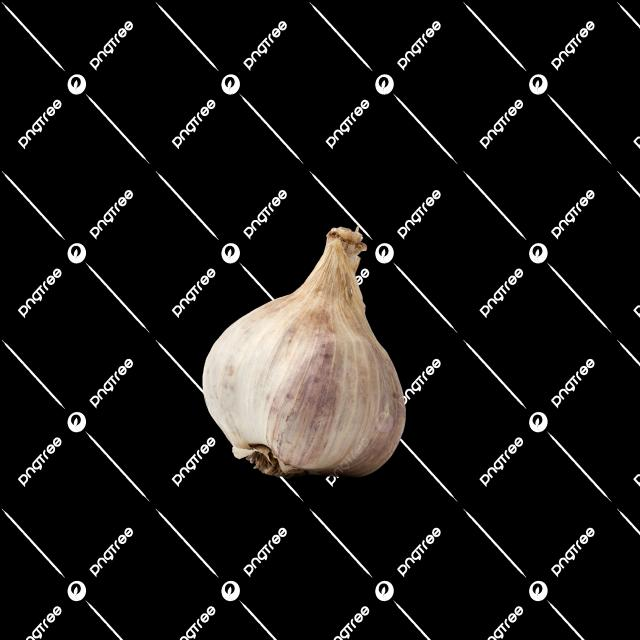garlic: (202, 283, 406, 485)
